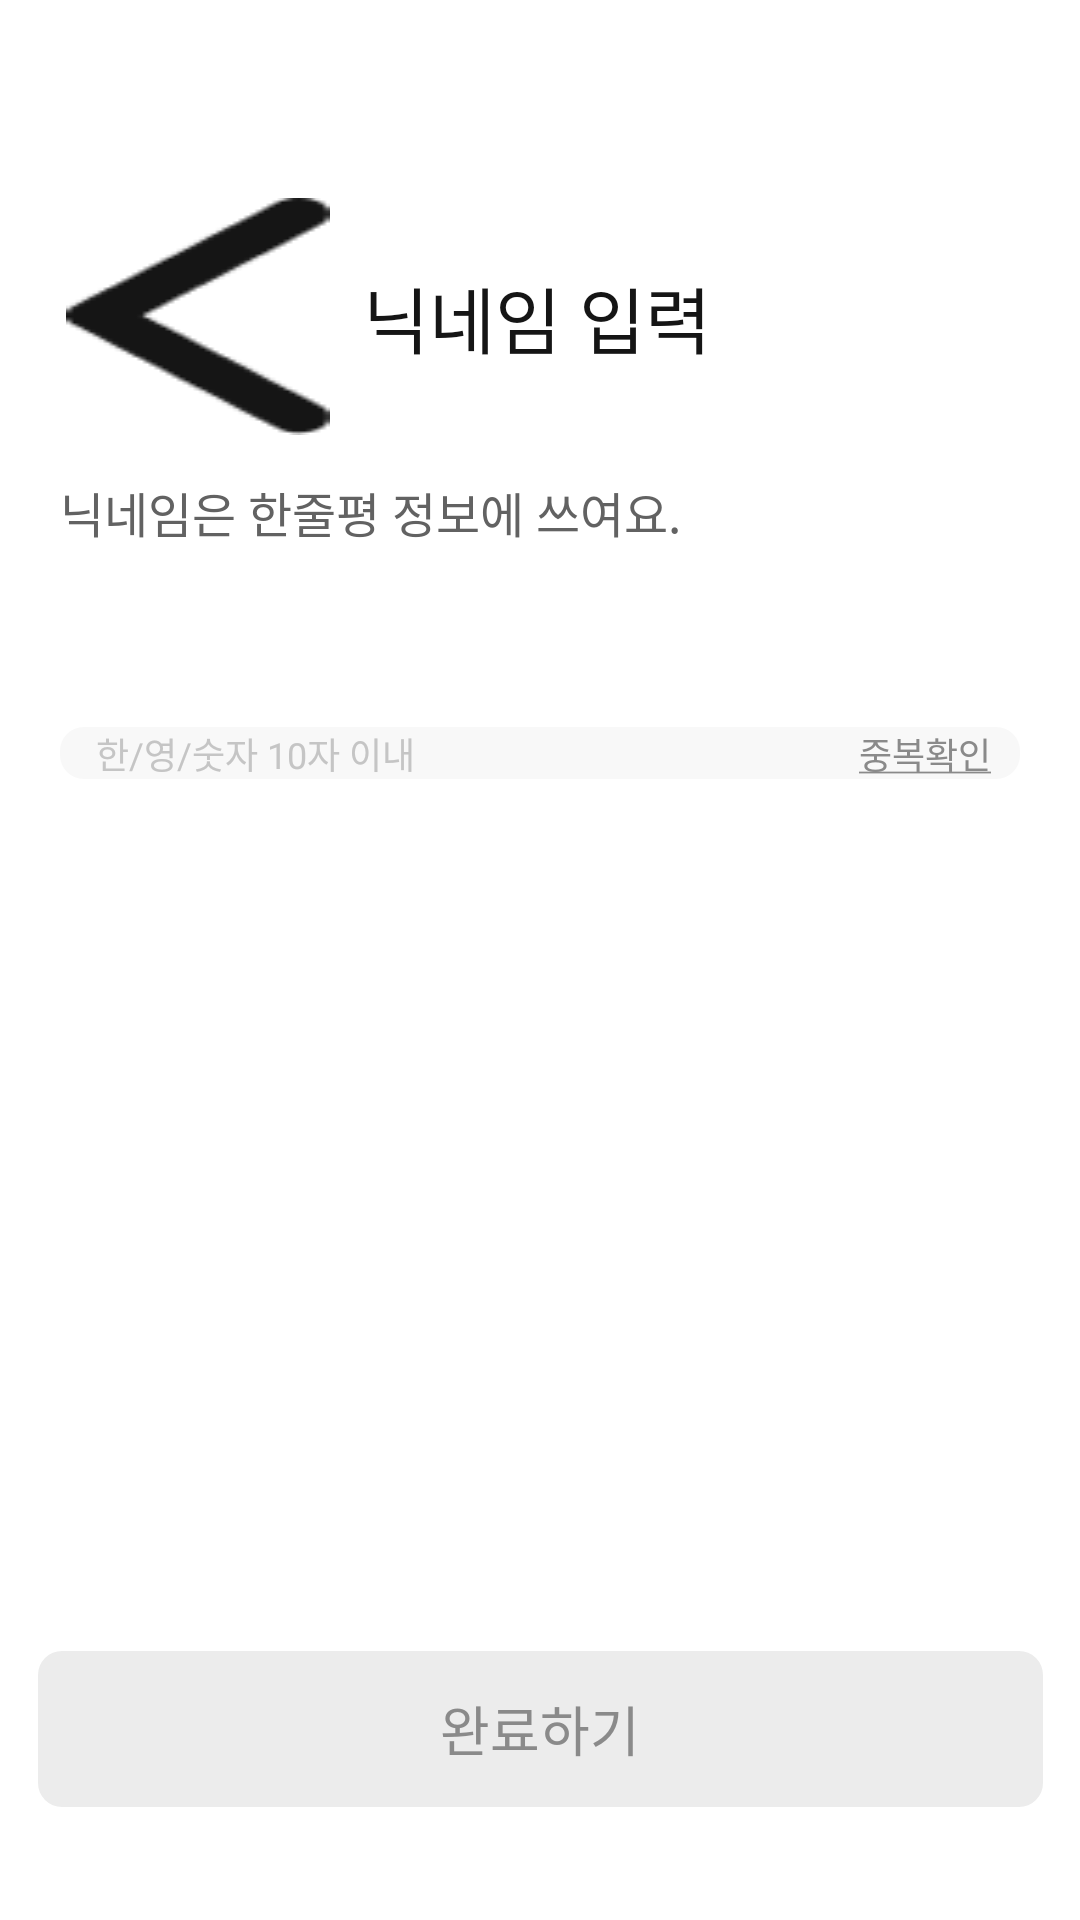

Icon click points for this 1080 x 1920 phone screenshot, format [x,y]:
back: [198,316]
